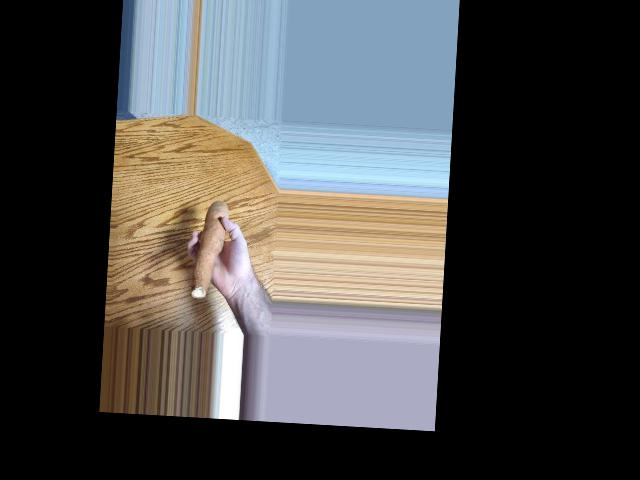sweet_potato: (188, 195, 225, 307)
